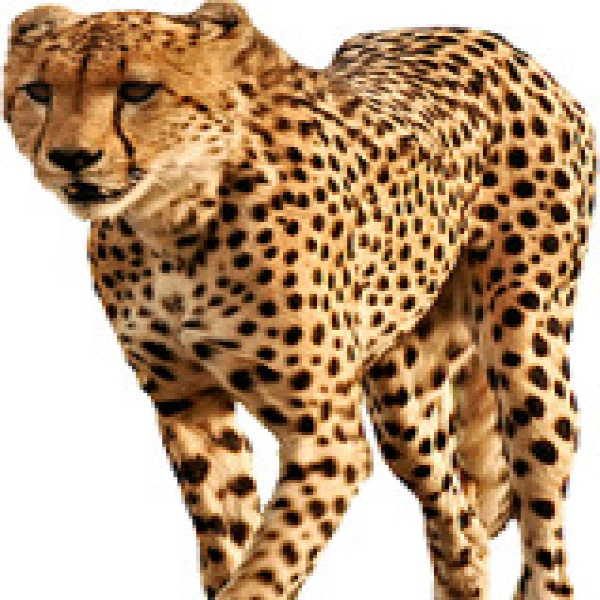Cheetah: (4, 1, 595, 600)
